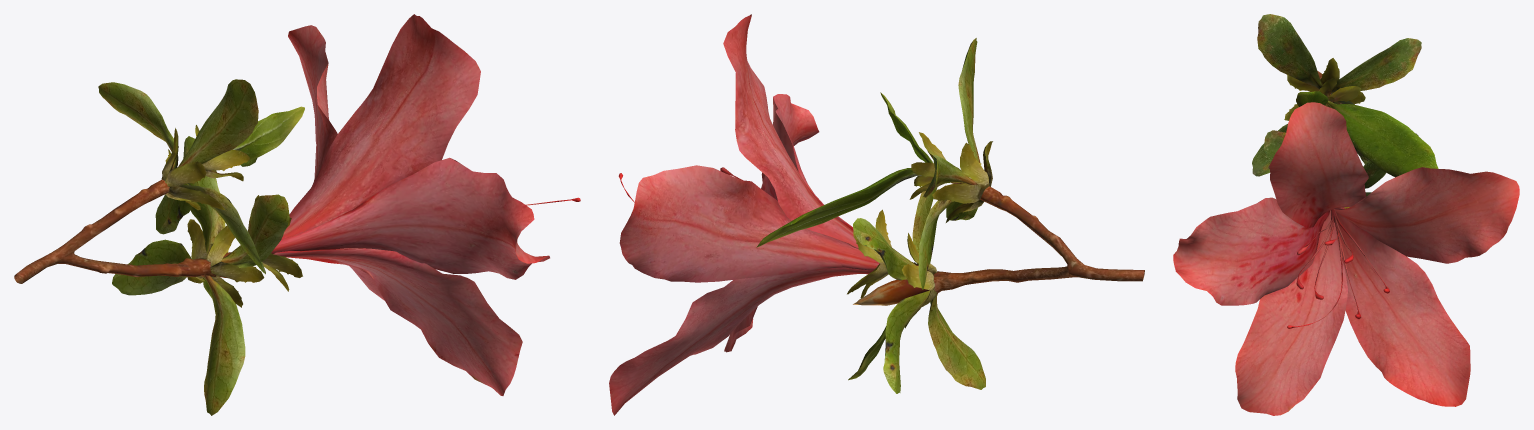
File: azalea.glb
3 renders of one model, left to right at view 1: azimuth 30°, elevation 25°; view 2: azimuth 150°, elevation 25°; view 3: azimuth 270°, elevation 25°, orthographic. The views are drawn at different scales.
Visible parts, largest first — view 1: Insect; view 2: Insect; view 3: Insect.
Part boxes in pixels (bbox=[...]): Insect: bbox=[14, 14, 580, 415]; Insect: bbox=[609, 14, 1144, 415]; Insect: bbox=[1173, 14, 1519, 415].
Size of the model in its own units: 30.45 by 19.56 by 20.29.
1 material, 1 textured.
